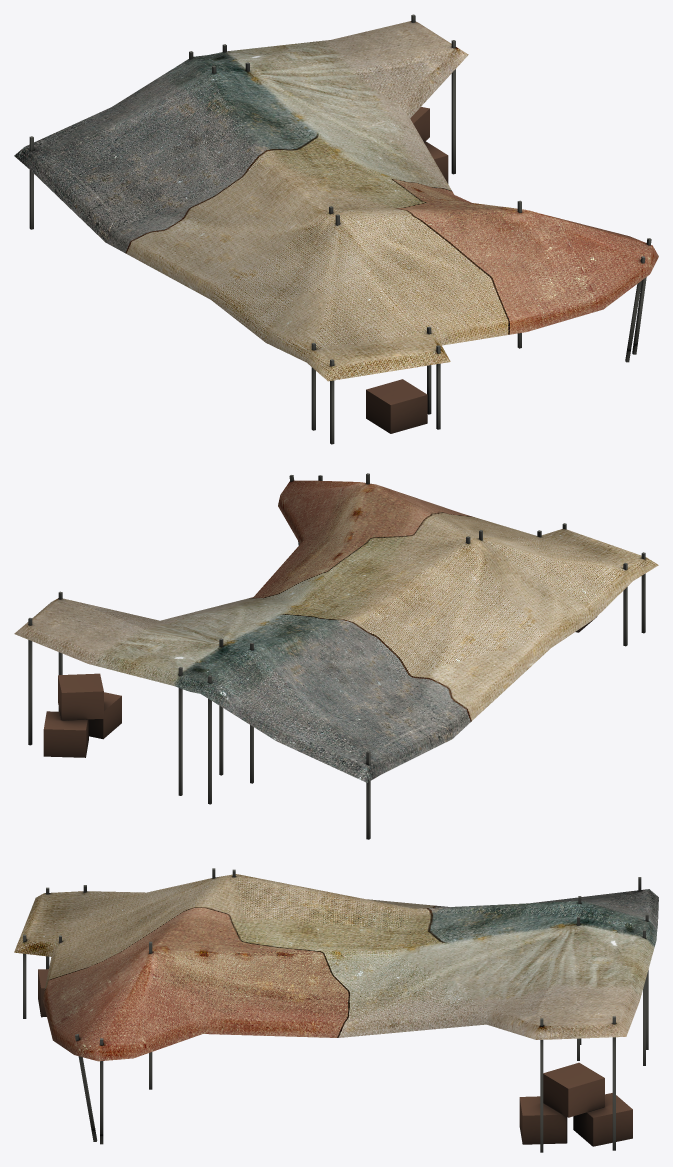
File: StorageTent.fbx
The picture shows the model from 3 angles, top to bottom: view 1: azimuth 30°, elevation 25°; view 2: azimuth 150°, elevation 25°; view 3: azimuth 270°, elevation 25°; orthographic projection. The views are drawn at different scales.
Visible parts, largest first — view 1: Shape; view 2: Shape; view 3: Shape.
Boxes of the visible parts, box(x1,y1,x2,y2) form: Shape: box(14, 14, 658, 444); Shape: box(14, 473, 658, 839); Shape: box(14, 868, 658, 1152).
Size of the model in its own units: 286 by 111 by 404.
Materials: 1 (1 with a texture image).
